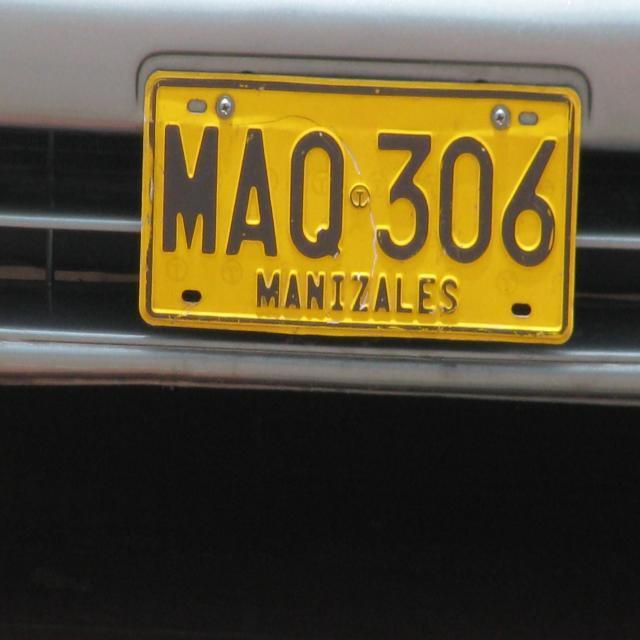placa: (134, 51, 586, 358)
